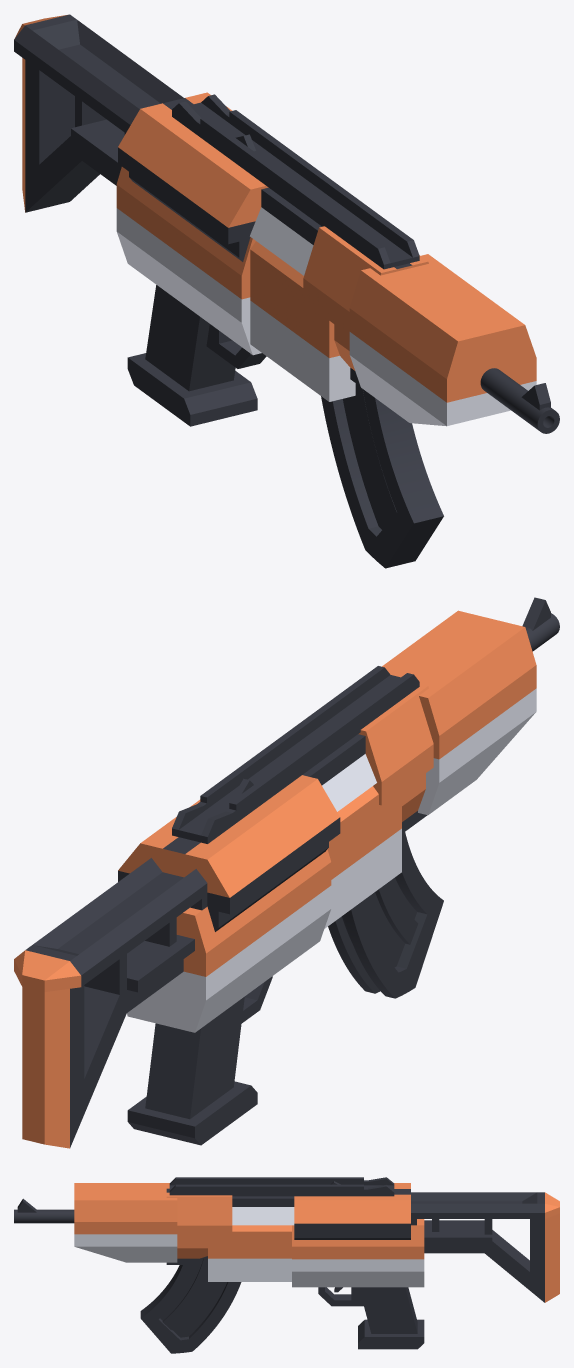
The model's file is GunAR.fbx.
The picture shows the model from 3 angles, top to bottom: view 1: azimuth 30°, elevation 25°; view 2: azimuth 150°, elevation 25°; view 3: azimuth 270°, elevation 25°; orthographic projection. The views are drawn at different scales.
Parts seen in each view (by area): view 1: mediumBlaster_handle, mediumBlaster_back, stock_stealth, clip_banana, largeBlaster_handleBolt, blaster_center, detailRail, largeBlaster_back, detailRail_front, attachment_barrelThin, block, block_hollow (+1 smaller); view 2: stock_stealth, mediumBlaster_handle, mediumBlaster_back, largeBlaster_handleBolt, clip_banana, detailRail, blaster_center, largeBlaster_back, detailRail_front, detailTargetSight, block, block_hollow; view 3: mediumBlaster_handle, stock_stealth, mediumBlaster_back, clip_banana, largeBlaster_handleBolt, blaster_center, largeBlaster_back, detailRail, block, detailRail_front, attachment_barrelThin, block_hollow (+1 smaller).
Boxes of the visible parts, box(x1,y1,x2,y2) form: mediumBlaster_handle: box(116, 167, 266, 426); mediumBlaster_back: box(349, 254, 536, 426); stock_stealth: box(14, 14, 183, 212); clip_banana: box(321, 383, 443, 568); largeBlaster_handleBolt: box(118, 92, 268, 261); blaster_center: box(250, 241, 355, 401); detailRail: box(200, 110, 376, 229); largeBlaster_back: box(303, 226, 428, 386); detailRail_front: box(325, 202, 419, 269); attachment_barrelThin: box(480, 368, 559, 433); block: box(250, 207, 313, 275); block_hollow: box(261, 187, 321, 244); stock_stealth: box(14, 858, 207, 1148); mediumBlaster_handle: box(127, 849, 331, 1145); mediumBlaster_back: box(382, 610, 536, 815); largeBlaster_handleBolt: box(118, 775, 340, 931); clip_banana: box(328, 832, 443, 998); detailRail: box(200, 692, 378, 822); blaster_center: box(324, 786, 401, 928); largeBlaster_back: box(358, 684, 433, 833); detailRail_front: box(333, 666, 419, 719); detailTargetSight: box(172, 802, 236, 843); block: box(322, 754, 376, 811); block_hollow: box(303, 734, 365, 785); mediumBlaster_handle: box(292, 1219, 424, 1349); stock_stealth: box(411, 1192, 559, 1302); mediumBlaster_back: box(74, 1183, 177, 1262); clip_banana: box(140, 1256, 241, 1353); largeBlaster_handleBolt: box(294, 1183, 410, 1239); blaster_center: box(208, 1225, 291, 1281); largeBlaster_back: box(166, 1184, 232, 1264); detailRail: box(213, 1177, 363, 1196); block: box(232, 1207, 294, 1225); detailRail_front: box(169, 1177, 231, 1195); attachment_barrelThin: box(14, 1209, 74, 1223); block_hollow: box(232, 1196, 294, 1206).
Bounding box in the file's own units: 5 × 13.53 × 39.87.
